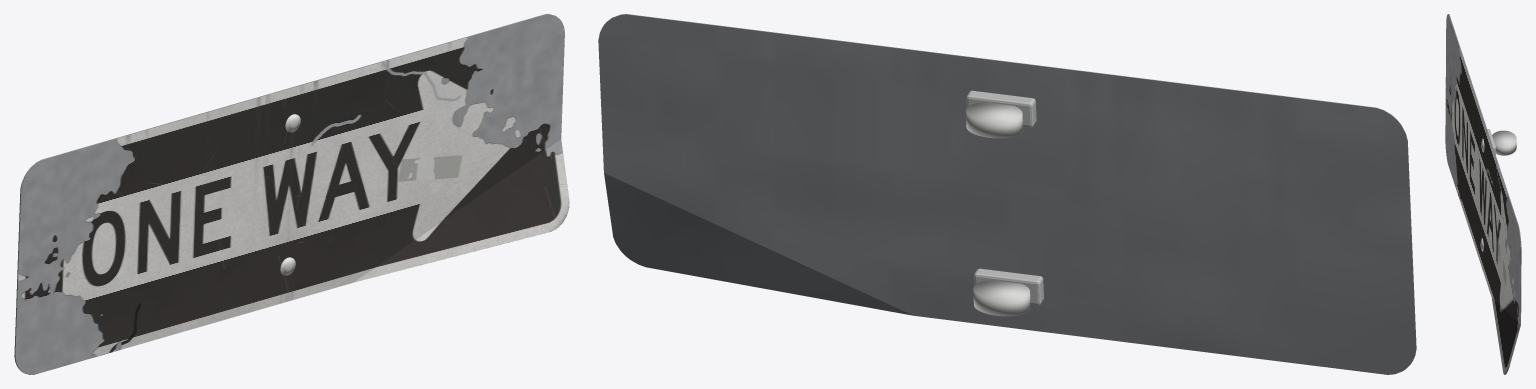
The model's file is oneWayRight-v1-battered.glb.
3 views of the same model, side by side, from view 1: azimuth 30°, elevation 25°; view 2: azimuth 150°, elevation 25°; view 3: azimuth 270°, elevation 25° (orthographic). The views are drawn at different scales.
Visible parts, largest first — view 1: oneWayRight-v1-battered; view 2: oneWayRight-v1-battered; view 3: oneWayRight-v1-battered.
Part boxes in pixels (box(x1,y1,x2,y2)): oneWayRight-v1-battered: box(14, 14, 569, 374); oneWayRight-v1-battered: box(598, 14, 1416, 374); oneWayRight-v1-battered: box(1445, 14, 1521, 374).
Size of the model in its own units: 1.21 by 0.4466 by 0.1845.
Materials: 1 (1 with a texture image).
